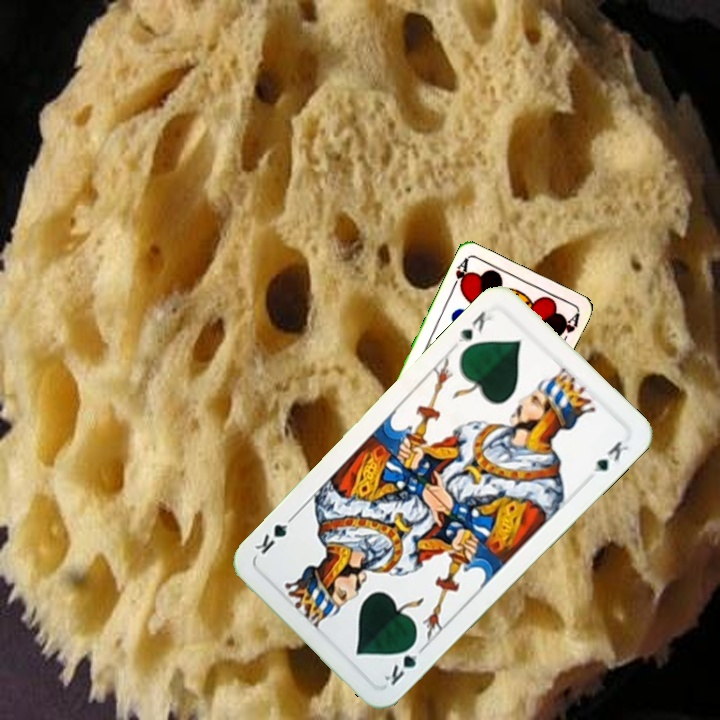GK: (379, 636, 428, 689), (453, 307, 494, 346)
HA: (447, 254, 472, 294)
